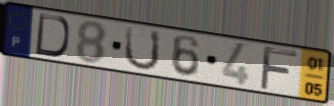4: (220, 40, 254, 89)
6: (170, 33, 202, 79)
8: (74, 19, 110, 67)
D: (33, 12, 71, 59)
F: (258, 44, 301, 93)
U: (122, 25, 162, 72)
